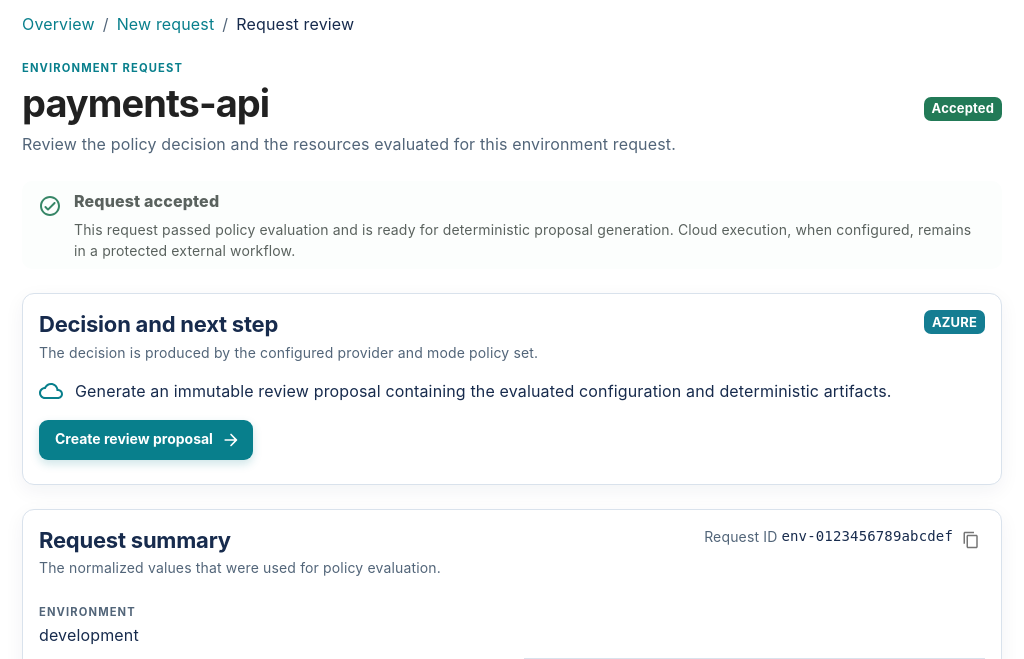
portal interfaces › creates a review proposal with a stable attempt key and navigates to its details
Click the button "Create review proposal".
click(146, 440)  # box [39,420,253,460]
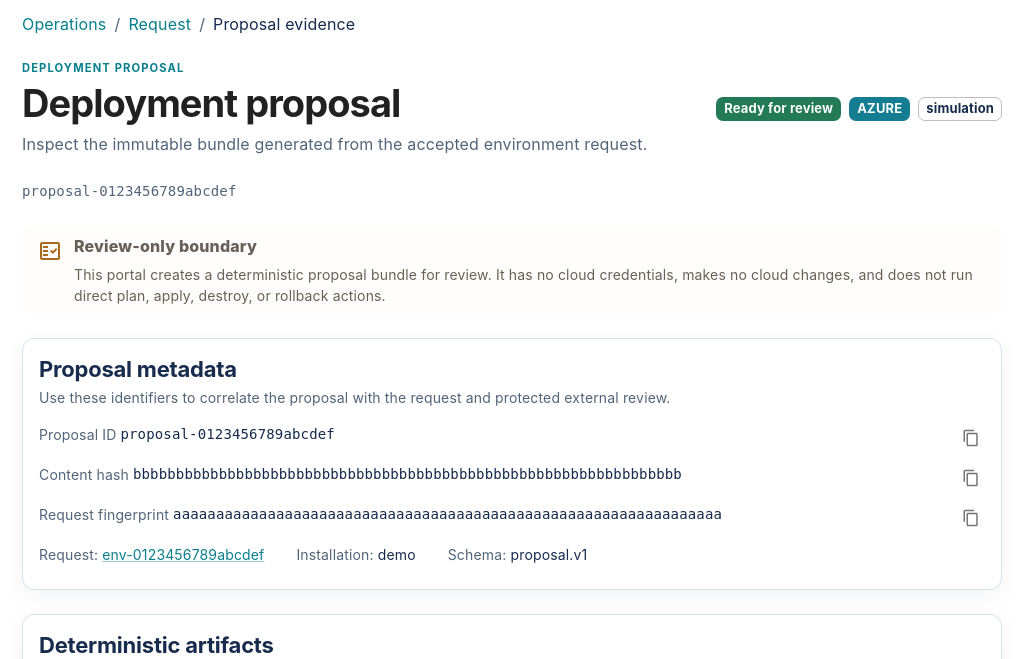
Check: the heading "Deployment proposal" is shown, box [22,80,400,126]
Check: the text "bbbbbbbbbbbbbbbbbbbbbbbbbbbbbbbbbbbbbbbbbbbbbbbbbbbbbbbbbbbbbbbb" is shown, box [133,466,682,482]
